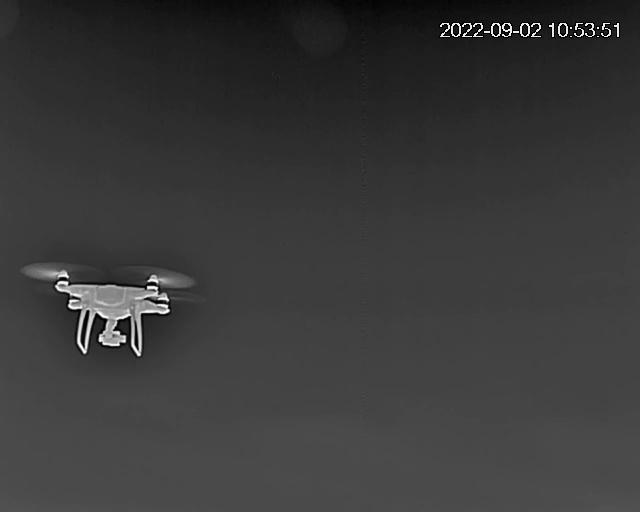DJI-Phantom: (20, 255, 196, 359)
